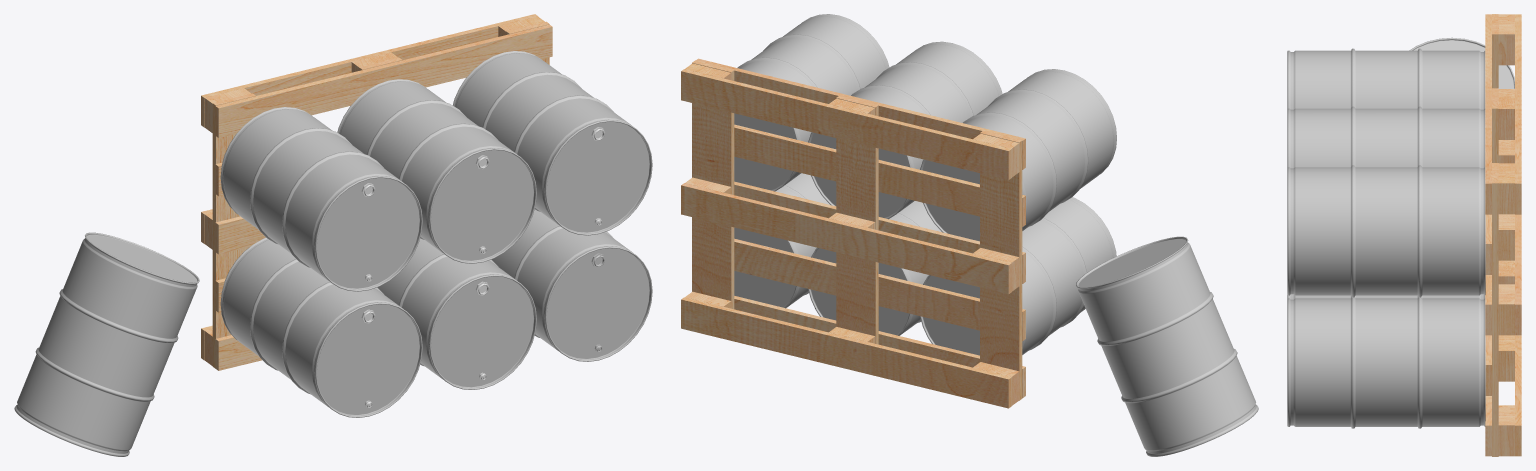
The model's file is barriles_bien.fbx.
The picture shows the model from 3 angles, left to right: view 1: azimuth 30°, elevation 25°; view 2: azimuth 150°, elevation 25°; view 3: azimuth 270°, elevation 25°; orthographic projection. The views are drawn at different scales.
Visible parts, largest first — view 1: Barrel.006_Cylinder.006, Barrel.004_Cylinder.004, Barrel.005_Cylinder.005, Barrel_Cylinder, Barrel.003_Cylinder.003, Pallet_Cube, Barrel.001_Cylinder.001, Barrel.002_Cylinder.002; view 2: Pallet_Cube, Barrel.006_Cylinder.006, Barrel.004_Cylinder.004, Barrel.005_Cylinder.005, Barrel_Cylinder, Barrel.003_Cylinder.003, Barrel.001_Cylinder.001, Barrel.002_Cylinder.002; view 3: Barrel_Cylinder, Barrel.001_Cylinder.001, Pallet_Cube, Barrel.003_Cylinder.003, Barrel.004_Cylinder.004, Barrel.006_Cylinder.006, Barrel.002_Cylinder.002.
Boxes of the visible parts, bbox=[...] form: Barrel.006_Cylinder.006: bbox=[14, 232, 199, 456]; Barrel.004_Cylinder.004: bbox=[220, 107, 422, 291]; Barrel.005_Cylinder.005: bbox=[220, 237, 422, 417]; Barrel_Cylinder: bbox=[452, 51, 652, 235]; Barrel.003_Cylinder.003: bbox=[337, 79, 536, 263]; Pallet_Cube: bbox=[201, 14, 552, 370]; Barrel.001_Cylinder.001: bbox=[491, 209, 652, 361]; Barrel.002_Cylinder.002: bbox=[377, 238, 536, 389]; Pallet_Cube: bbox=[681, 58, 1025, 408]; Barrel.006_Cylinder.006: bbox=[1076, 236, 1258, 456]; Barrel.004_Cylinder.004: bbox=[920, 69, 1116, 241]; Barrel.005_Cylinder.005: bbox=[920, 197, 1116, 355]; Barrel_Cylinder: bbox=[734, 14, 889, 191]; Barrel.003_Cylinder.003: bbox=[808, 41, 1002, 219]; Barrel.001_Cylinder.001: bbox=[734, 173, 829, 308]; Barrel.002_Cylinder.002: bbox=[808, 201, 941, 335]; Barrel_Cylinder: bbox=[1287, 165, 1485, 297]; Barrel.001_Cylinder.001: bbox=[1287, 297, 1485, 428]; Pallet_Cube: bbox=[1485, 14, 1521, 456]; Barrel.003_Cylinder.003: bbox=[1287, 106, 1485, 168]; Barrel.004_Cylinder.004: bbox=[1287, 48, 1485, 109]; Barrel.006_Cylinder.006: bbox=[1409, 37, 1514, 88]; Barrel.002_Cylinder.002: bbox=[1287, 294, 1485, 299].
Bounding box in the file's own units: 670 × 343 × 237.
